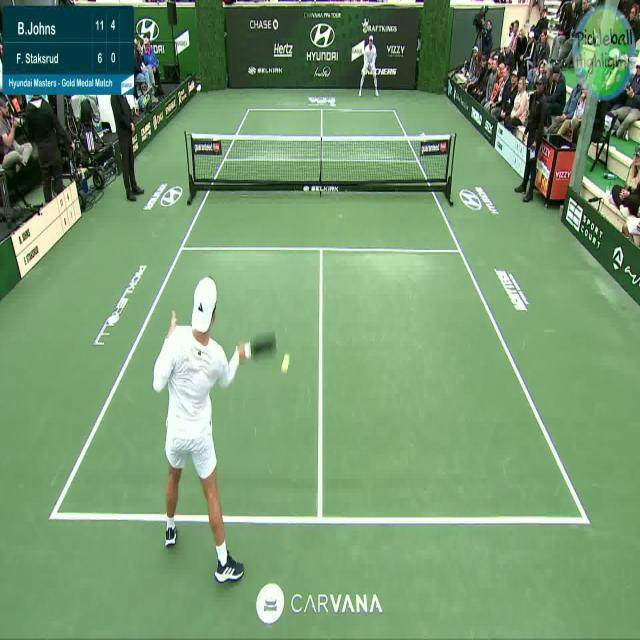ball: (281, 350, 291, 371)
